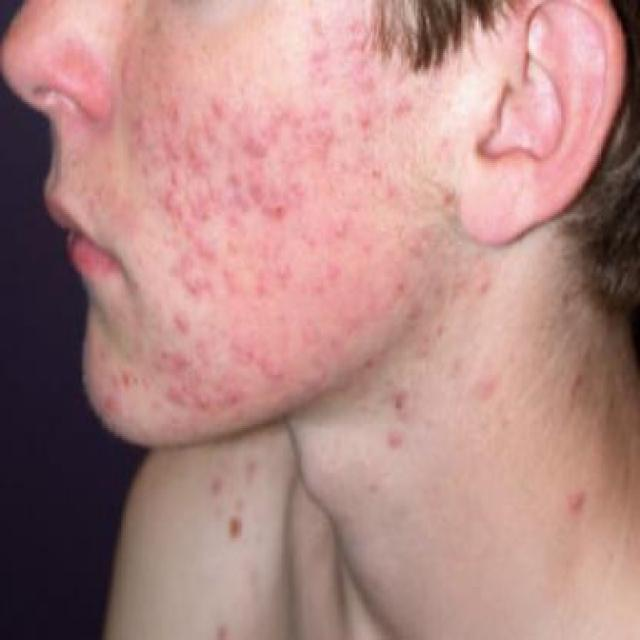papules: (257, 346, 301, 389), (469, 358, 506, 408), (237, 120, 275, 165), (180, 134, 212, 180), (311, 114, 340, 163), (328, 206, 360, 249), (378, 422, 408, 465), (180, 271, 212, 308), (245, 171, 272, 214), (189, 234, 222, 267), (97, 385, 125, 422), (208, 86, 235, 122), (191, 385, 215, 424), (306, 269, 329, 308), (171, 343, 195, 379), (262, 196, 289, 228), (157, 183, 186, 212), (222, 222, 244, 259), (352, 104, 376, 137), (223, 161, 255, 185), (169, 308, 197, 332), (274, 251, 292, 283), (251, 283, 274, 306)
